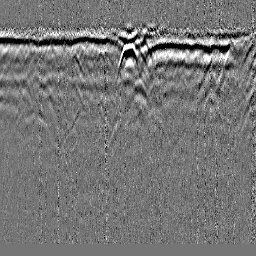cavity: (117, 41, 140, 75)
